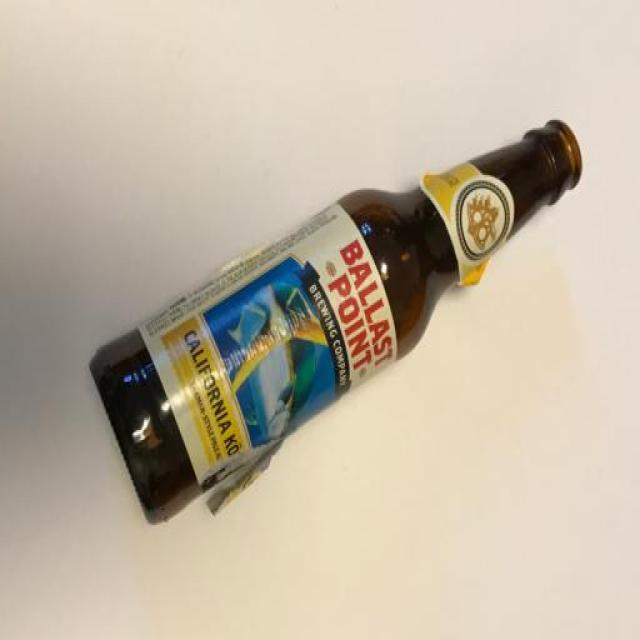glass: (43, 102, 596, 534)
